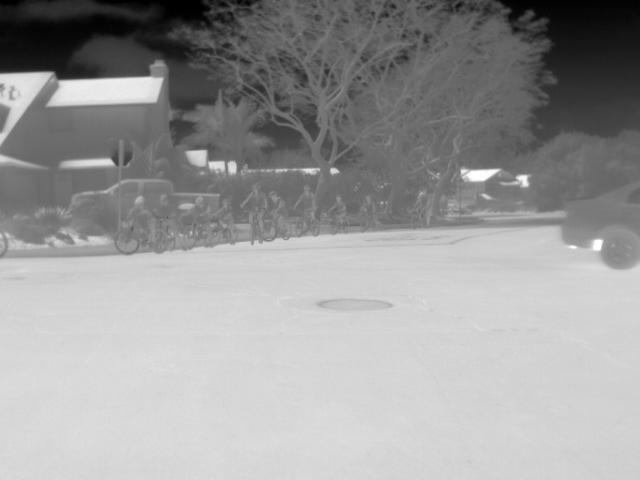car: (559, 175, 639, 271), (123, 178, 220, 224), (64, 183, 117, 224)
person: (124, 193, 157, 237), (241, 180, 268, 225), (294, 183, 321, 220), (182, 196, 211, 230), (267, 188, 291, 229), (155, 194, 176, 238), (328, 193, 352, 227), (218, 198, 238, 232), (360, 193, 380, 223)
